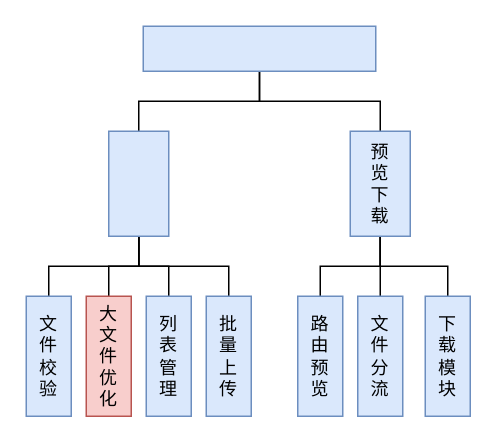
Some shapes in this 497 by 443 pixel diagram are drawn without their labels. The shapes that lost their labels are listed below. From the top down, each one's box as (x1, y1, x2, y2) in pixels, then its label:
(142, 25, 376, 71): CRM 管理系统文件系统
(107, 130, 169, 236): 文 件 上 传
